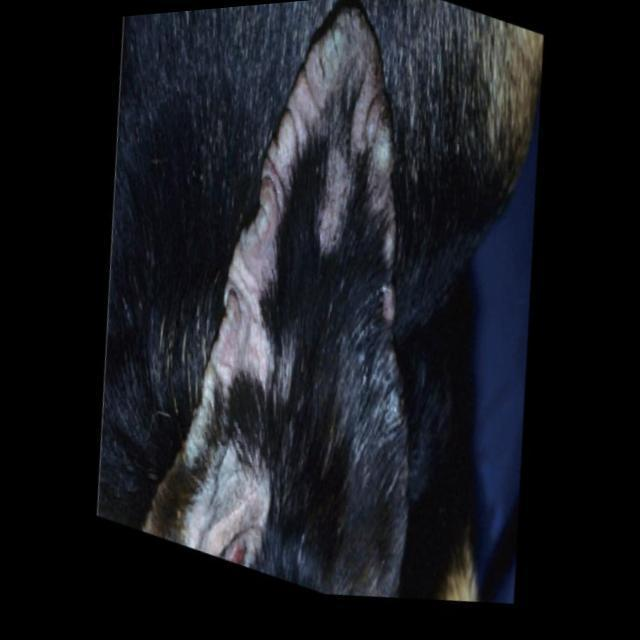mange: (129, 0, 418, 617)
